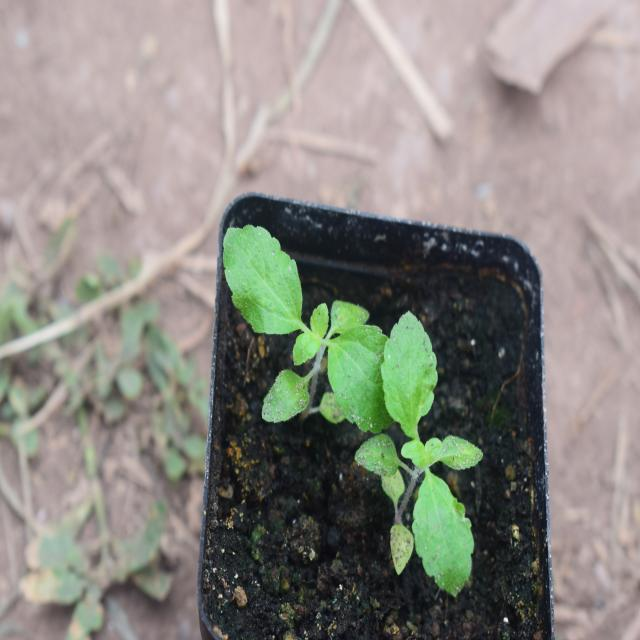billygoat_weed: (226, 232, 381, 460), (370, 305, 480, 598)
